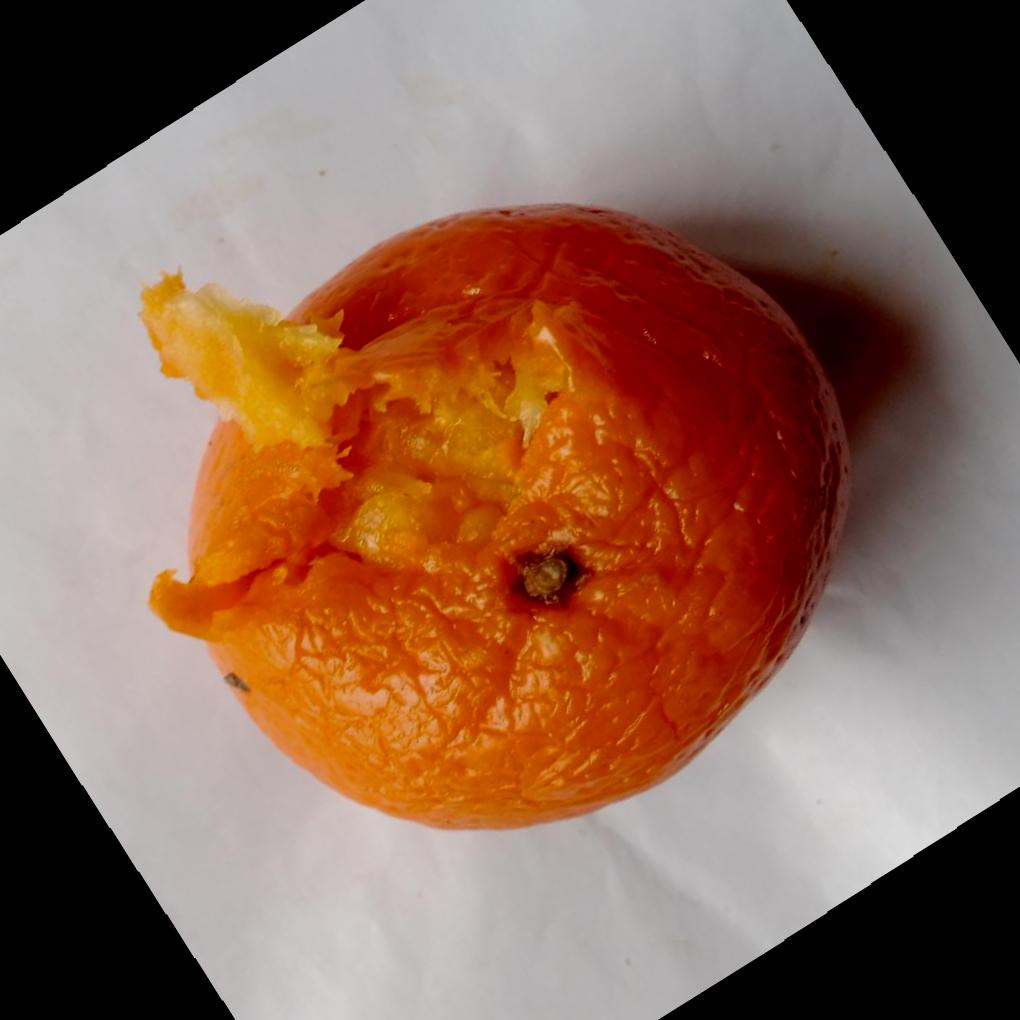FreshOrange: (135, 203, 848, 835)
